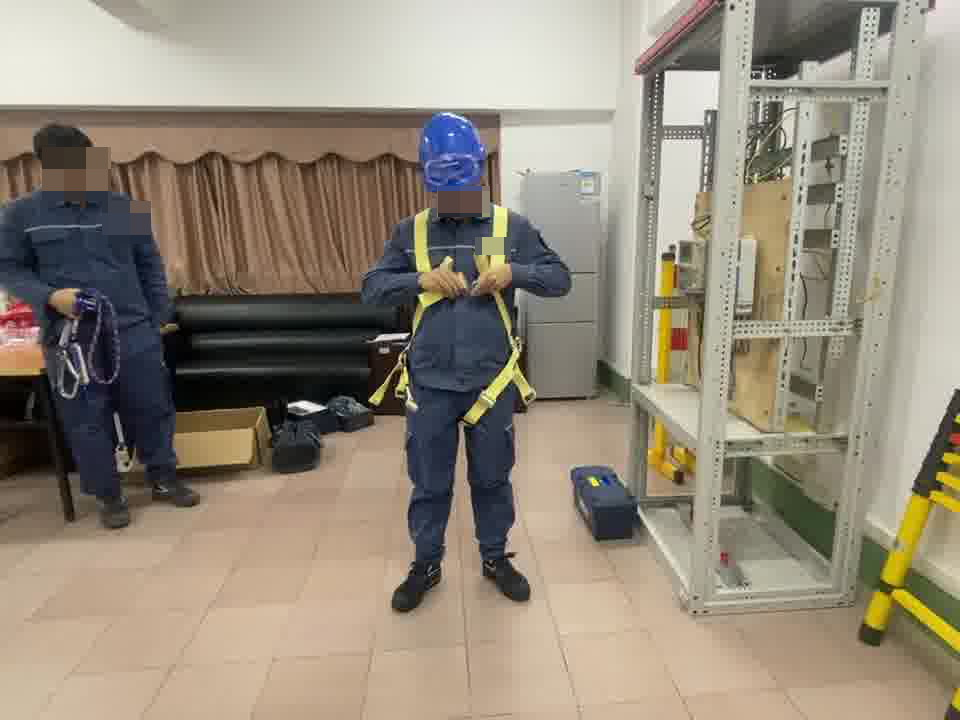downsuit: (39, 335, 179, 495), (400, 395, 521, 564)
halt: (416, 112, 491, 217), (31, 124, 102, 194)
hand: (421, 271, 466, 300), (470, 265, 511, 296), (49, 287, 81, 318)
person: (365, 109, 573, 605), (2, 121, 194, 519)
safebelt: (369, 196, 544, 428)
unhalt: (31, 122, 102, 192)
upsuit: (377, 203, 571, 380), (4, 190, 166, 330)
